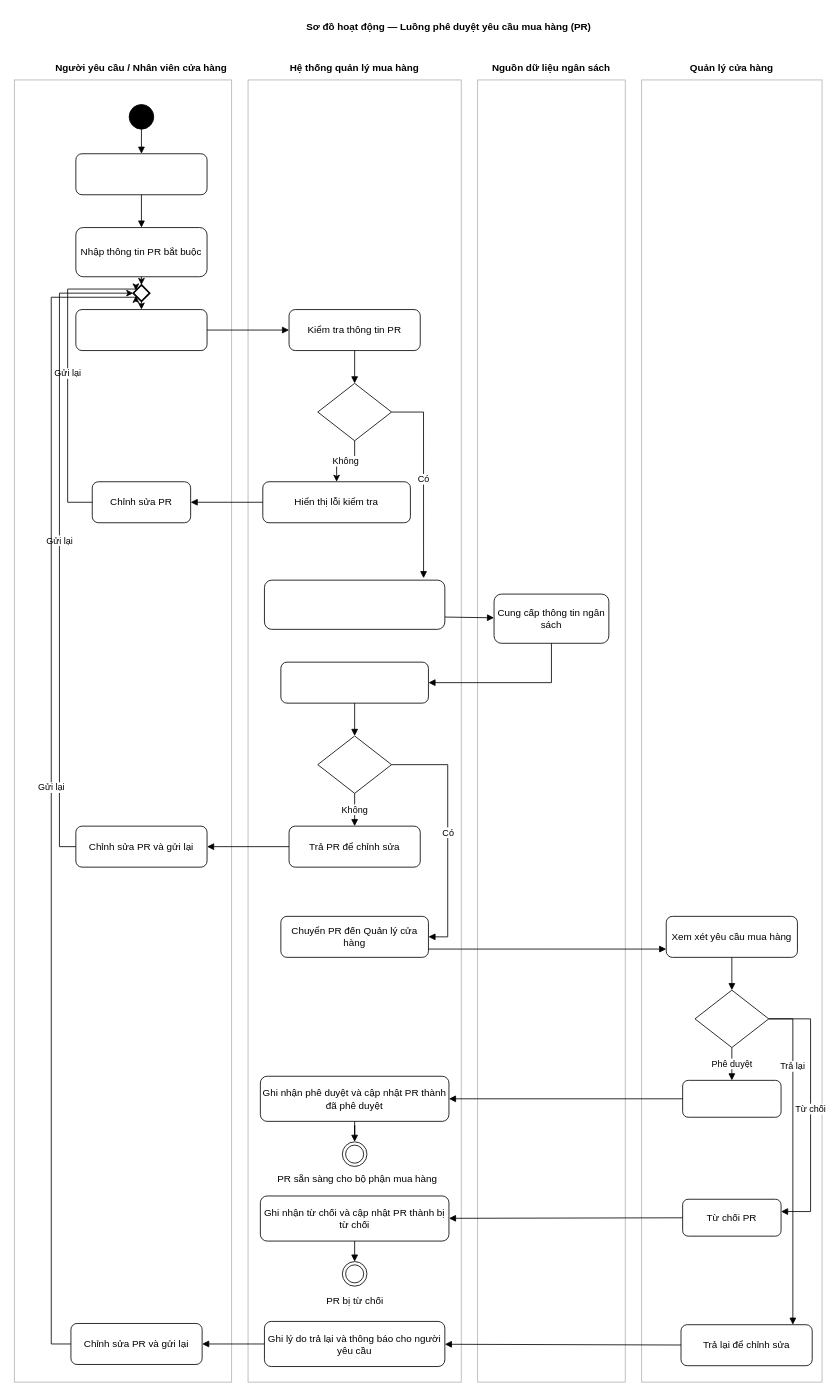
This 840x1396 diagram has some shape labels left out. The centre of each missing label's shape, as x and y in pixels:
"Gửi yêu cầu mua hàng" belongs at point 141,330.
"Kiểm tra ngân sách khả dụng" belongs at point 354,682.
"Phê duyệt PR" belongs at point 731,1098.
"Quyết định?" belongs at point 731,1018.
"Thông tin hợp lệ?" belongs at point 354,412.
"Tạo yêu cầu mua hàng" belongs at point 141,174.
"Yêu cầu / Truy xuất thông tin ngân sách" belongs at point 354,604.
"Đủ ngân sách?" belongs at point 354,764.
